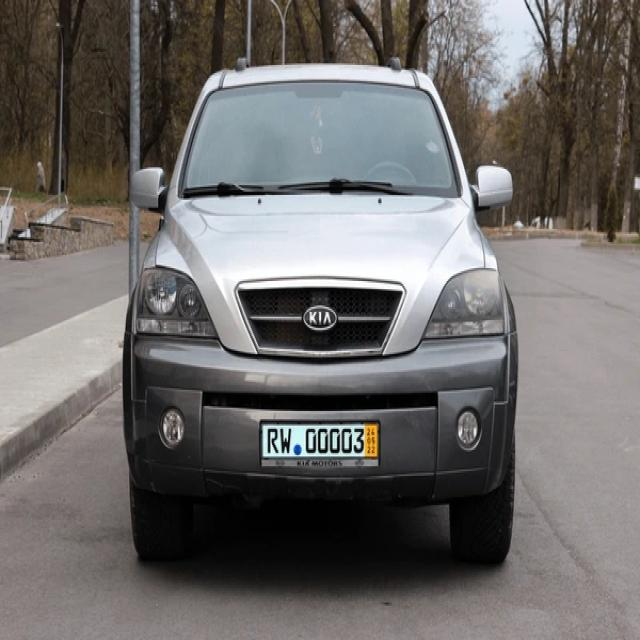kia: (302, 306, 338, 328)
